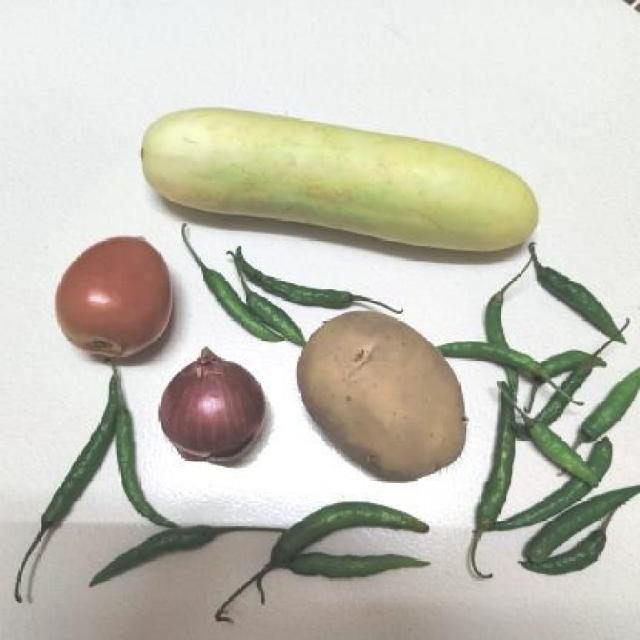Potato: (291, 309, 464, 483)
Tomato: (50, 229, 178, 360)
